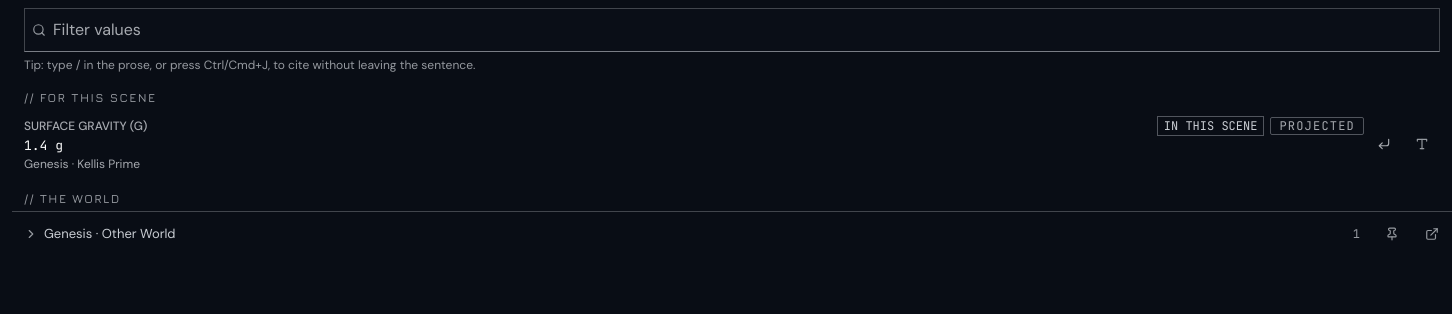
Scenario: WorldRefsPanel › folds the rest of the world by source
expect the text "347 days" is not shown: met
What coordinates should you click on to do the following:
click the button "Genesis · Other World 1"
I would click on:
 (110, 233)
Its box is left=12, top=212, right=1372, bottom=256.
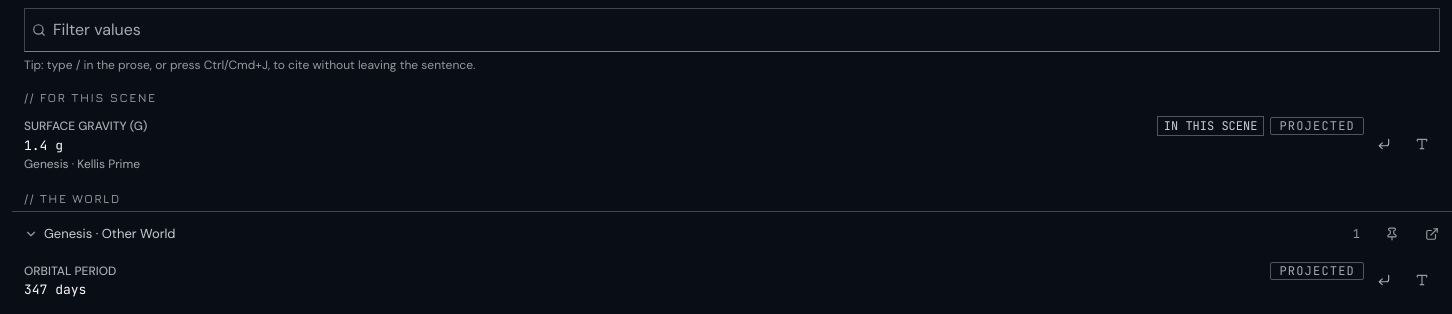
expect the text "347 days" is shown: met, box left=24, top=281, right=86, bottom=298
